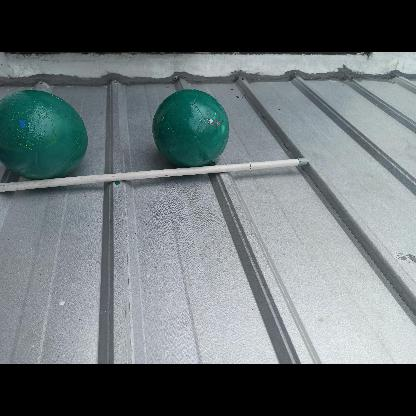green_ball: (1, 91, 87, 190), (152, 88, 232, 166)
